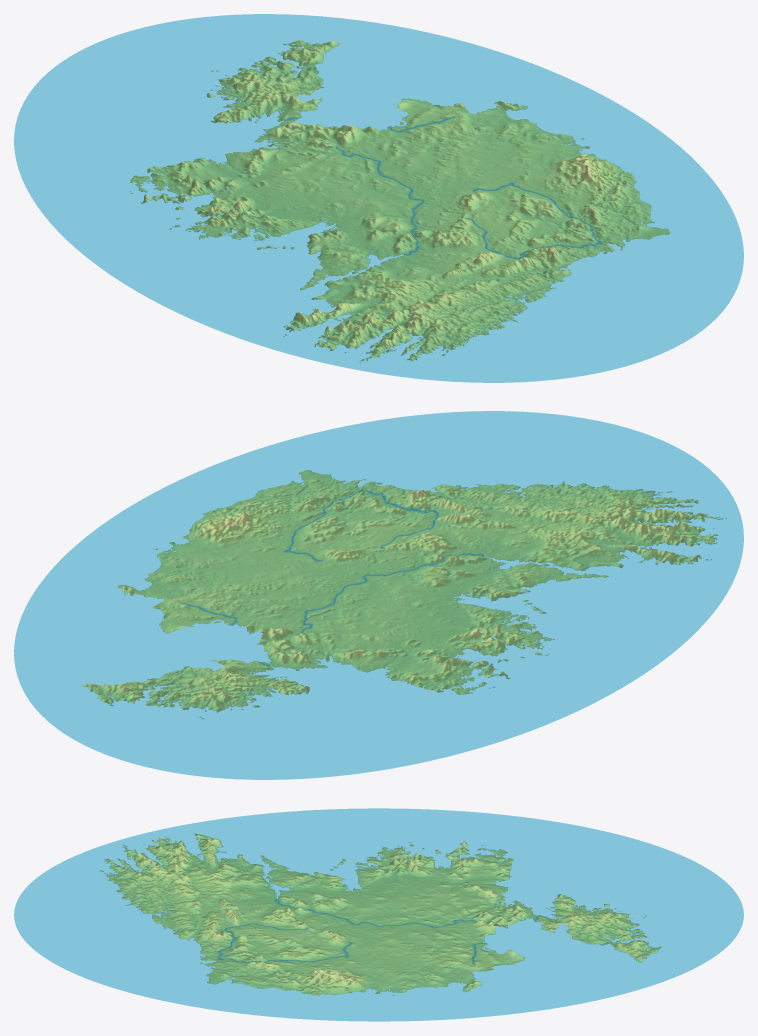
The model's file is IRL-terrain.glb.
3 renders of one model, top to bottom at view 1: azimuth 30°, elevation 25°; view 2: azimuth 150°, elevation 25°; view 3: azimuth 270°, elevation 25°, orthographic. The views are drawn at different scales.
Parts seen in each view (by area): view 1: Relevo com hidrografia; view 2: Relevo com hidrografia; view 3: Relevo com hidrografia.
Part boxes in pixels (x1,y1,x2,y2): Relevo com hidrografia: (14, 14, 743, 382); Relevo com hidrografia: (14, 411, 743, 779); Relevo com hidrografia: (14, 808, 743, 1021).
Size of the model in its own units: 1.44 by 0.0341 by 2.09.
2 materials, 1 textured.
